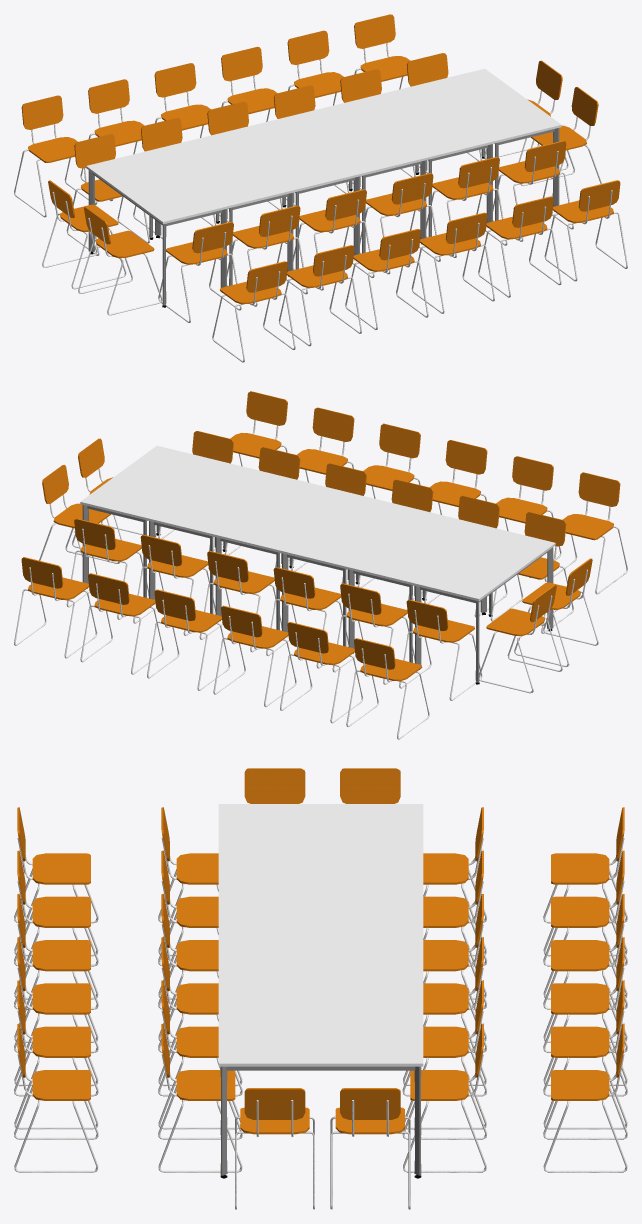
File: Cofico Space of Meeting Room 02-19.gltf
The picture shows the model from 3 angles, top to bottom: view 1: azimuth 30°, elevation 25°; view 2: azimuth 150°, elevation 25°; view 3: azimuth 270°, elevation 25°; orthographic projection. The views are drawn at different scales.
Visible parts, largest first — view 1: 66f791fa-ec0e-4334-a9cc-1dd752b7284a-0004e8d3, 66f791fa-ec0e-4334-a9cc-1dd752b7284a-0004e8d6, 66f791fa-ec0e-4334-a9cc-1dd752b7284a-0004e8dc, 66f791fa-ec0e-4334-a9cc-1dd752b7284a-0004e8e2, 66f791fa-ec0e-4334-a9cc-1dd752b7284a-0004e8d9, 66f791fa-ec0e-4334-a9cc-1dd752b7284a-0004e8df, 66f791fa-ec0e-4334-a9cc-1dd752b7284a-0004ea02, 66f791fa-ec0e-4334-a9cc-1dd752b7284a-0004ea15, 66f791fa-ec0e-4334-a9cc-1dd752b7284a-0004ea17, 66f791fa-ec0e-4334-a9cc-1dd752b7284a-0004ea19, 66f791fa-ec0e-4334-a9cc-1dd752b7284a-0004ea1b, 66f791fa-ec0e-4334-a9cc-1dd752b7284a-0004ea1f (+22 smaller); view 2: 66f791fa-ec0e-4334-a9cc-1dd752b7284a-0004e8d3, 66f791fa-ec0e-4334-a9cc-1dd752b7284a-0004e8d6, 66f791fa-ec0e-4334-a9cc-1dd752b7284a-0004e8e2, 66f791fa-ec0e-4334-a9cc-1dd752b7284a-0004e8dc, 66f791fa-ec0e-4334-a9cc-1dd752b7284a-0004e8d9, 66f791fa-ec0e-4334-a9cc-1dd752b7284a-0004e8df, 66f791fa-ec0e-4334-a9cc-1dd752b7284a-0004ea15, 66f791fa-ec0e-4334-a9cc-1dd752b7284a-0004ea08, 66f791fa-ec0e-4334-a9cc-1dd752b7284a-0004ea02, 66f791fa-ec0e-4334-a9cc-1dd752b7284a-0004ea0c, 66f791fa-ec0e-4334-a9cc-1dd752b7284a-0004ea04, 66f791fa-ec0e-4334-a9cc-1dd752b7284a-0004ea06 (+22 smaller); view 3: 66f791fa-ec0e-4334-a9cc-1dd752b7284a-0004e8e2, 66f791fa-ec0e-4334-a9cc-1dd752b7284a-0004e8df, 66f791fa-ec0e-4334-a9cc-1dd752b7284a-0004e8d6, 66f791fa-ec0e-4334-a9cc-1dd752b7284a-0004e8d3, 66f791fa-ec0e-4334-a9cc-1dd752b7284a-0004e8d9, 66f791fa-ec0e-4334-a9cc-1dd752b7284a-0004e8dc, a39538df-f040-49cb-9df3-ec56423e52bd-0004d6db, 66f791fa-ec0e-4334-a9cc-1dd752b7284a-0004e8f2, 66f791fa-ec0e-4334-a9cc-1dd752b7284a-0004ea0c, 66f791fa-ec0e-4334-a9cc-1dd752b7284a-0004ea1f, a39538df-f040-49cb-9df3-ec56423e52bd-0004d709, a39538df-f040-49cb-9df3-ec56423e52bd-0004d6ed (+22 smaller).
Boxes of the visible parts, box(x1,y1,x2,y2) form: 66f791fa-ec0e-4334-a9cc-1dd752b7284a-0004e8d3: box(86, 150, 229, 307); 66f791fa-ec0e-4334-a9cc-1dd752b7284a-0004e8d6: box(153, 133, 295, 285); 66f791fa-ec0e-4334-a9cc-1dd752b7284a-0004e8dc: box(286, 101, 428, 253); 66f791fa-ec0e-4334-a9cc-1dd752b7284a-0004e8e2: box(419, 68, 561, 220); 66f791fa-ec0e-4334-a9cc-1dd752b7284a-0004e8d9: box(219, 117, 362, 269); 66f791fa-ec0e-4334-a9cc-1dd752b7284a-0004e8df: box(352, 85, 495, 236); 66f791fa-ec0e-4334-a9cc-1dd752b7284a-0004ea02: box(14, 95, 97, 217); 66f791fa-ec0e-4334-a9cc-1dd752b7284a-0004ea15: box(212, 261, 295, 362); 66f791fa-ec0e-4334-a9cc-1dd752b7284a-0004ea17: box(278, 245, 361, 346); 66f791fa-ec0e-4334-a9cc-1dd752b7284a-0004ea19: box(345, 229, 428, 329); 66f791fa-ec0e-4334-a9cc-1dd752b7284a-0004ea1b: box(411, 212, 494, 313); 66f791fa-ec0e-4334-a9cc-1dd752b7284a-0004ea1f: box(544, 180, 627, 281); 66f791fa-ec0e-4334-a9cc-1dd752b7284a-0004e8d3: box(412, 526, 555, 684); 66f791fa-ec0e-4334-a9cc-1dd752b7284a-0004e8d6: box(346, 510, 488, 662); 66f791fa-ec0e-4334-a9cc-1dd752b7284a-0004e8e2: box(80, 445, 222, 597); 66f791fa-ec0e-4334-a9cc-1dd752b7284a-0004e8dc: box(213, 478, 355, 630); 66f791fa-ec0e-4334-a9cc-1dd752b7284a-0004e8d9: box(279, 494, 422, 646); 66f791fa-ec0e-4334-a9cc-1dd752b7284a-0004e8df: box(146, 462, 289, 613); 66f791fa-ec0e-4334-a9cc-1dd752b7284a-0004ea15: box(544, 472, 627, 594); 66f791fa-ec0e-4334-a9cc-1dd752b7284a-0004ea08: box(147, 589, 230, 690); 66f791fa-ec0e-4334-a9cc-1dd752b7284a-0004ea02: box(346, 638, 429, 739); 66f791fa-ec0e-4334-a9cc-1dd752b7284a-0004ea0c: box(14, 557, 97, 658); 66f791fa-ec0e-4334-a9cc-1dd752b7284a-0004ea04: box(280, 622, 362, 723); 66f791fa-ec0e-4334-a9cc-1dd752b7284a-0004ea06: box(213, 605, 296, 706); 66f791fa-ec0e-4334-a9cc-1dd752b7284a-0004e8e2: box(218, 1020, 423, 1178); 66f791fa-ec0e-4334-a9cc-1dd752b7284a-0004e8df: box(218, 977, 423, 1129); 66f791fa-ec0e-4334-a9cc-1dd752b7284a-0004e8d6: box(218, 847, 423, 890); 66f791fa-ec0e-4334-a9cc-1dd752b7284a-0004e8d3: box(218, 804, 423, 847); 66f791fa-ec0e-4334-a9cc-1dd752b7284a-0004e8d9: box(218, 890, 423, 933); 66f791fa-ec0e-4334-a9cc-1dd752b7284a-0004e8dc: box(218, 933, 423, 976); a39538df-f040-49cb-9df3-ec56423e52bd-0004d6db: box(330, 1088, 410, 1209); 66f791fa-ec0e-4334-a9cc-1dd752b7284a-0004e8f2: box(235, 1088, 314, 1209); 66f791fa-ec0e-4334-a9cc-1dd752b7284a-0004ea0c: box(543, 1023, 627, 1172); 66f791fa-ec0e-4334-a9cc-1dd752b7284a-0004ea1f: box(14, 1023, 98, 1172); a39538df-f040-49cb-9df3-ec56423e52bd-0004d709: box(158, 1023, 242, 1172); a39538df-f040-49cb-9df3-ec56423e52bd-0004d6ed: box(402, 1023, 487, 1172).
Bounding box in the file's own units: 4.49 × 0.7847 × 3.6.
5 materials, 1 textured.
